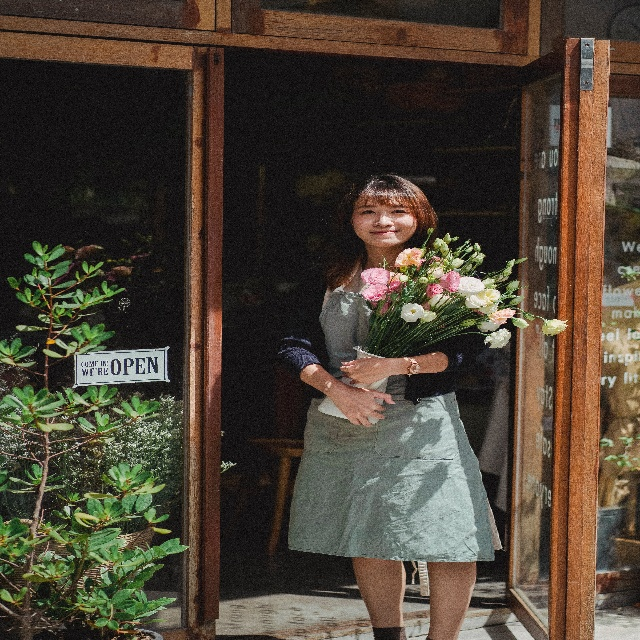Sin_guantes: (334, 377, 393, 429), (340, 352, 386, 382)
